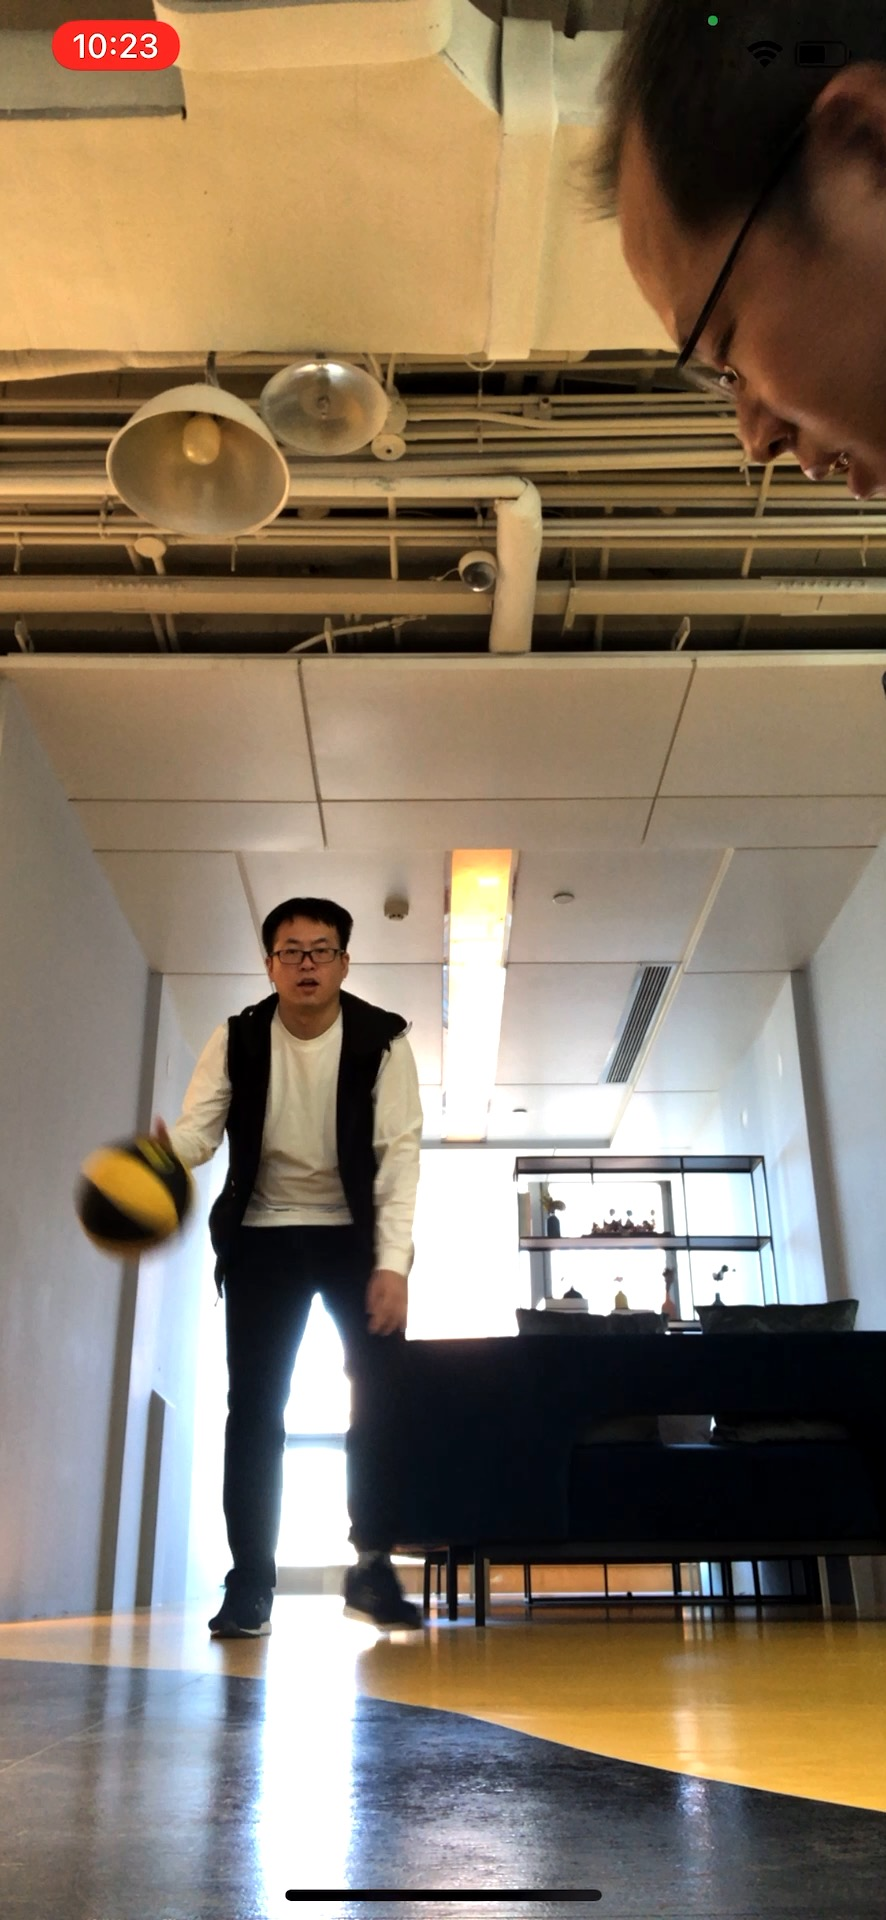ball: (73, 1135, 198, 1261)
